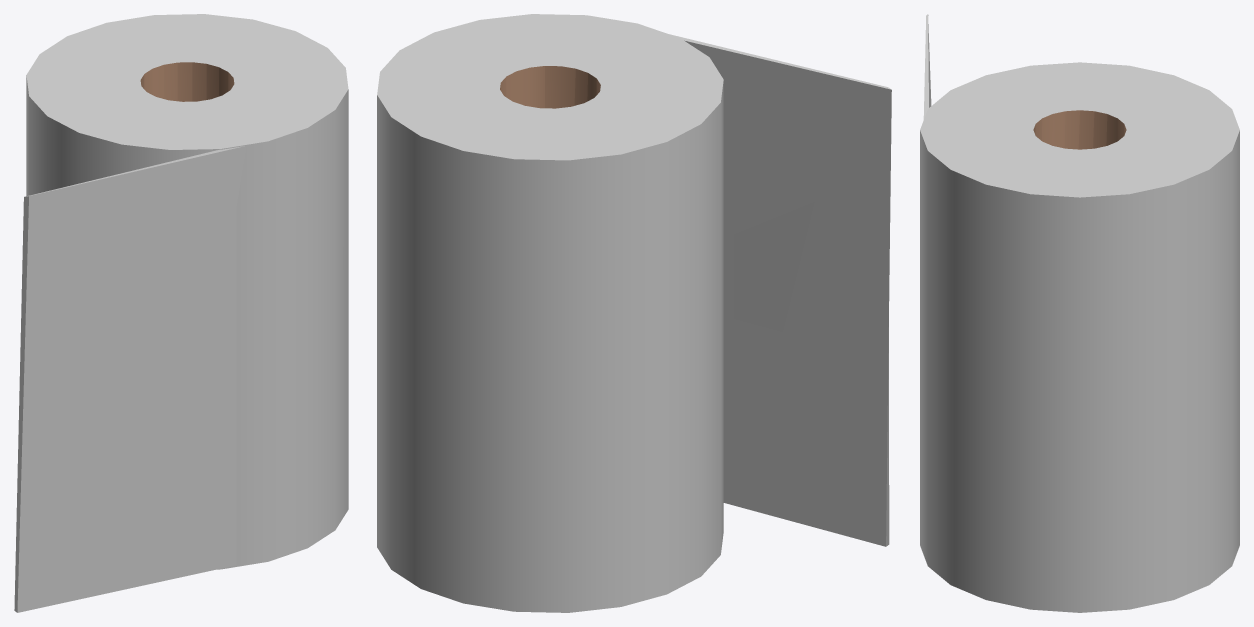
Rendered from papertowel.fbx.
3 renders of one model, left to right at view 1: azimuth 30°, elevation 25°; view 2: azimuth 150°, elevation 25°; view 3: azimuth 270°, elevation 25°, orthographic. The views are drawn at different scales.
Parts seen in each view (by area): view 1: group2; view 2: group2; view 3: group2.
Part boxes in pixels (x1,y1,x2,y2): group2: (14,14,348,612); group2: (377,14,891,612); group2: (920,14,1239,612).
Bounding box in the file's own units: 9.37 × 9.85 × 6.86.
